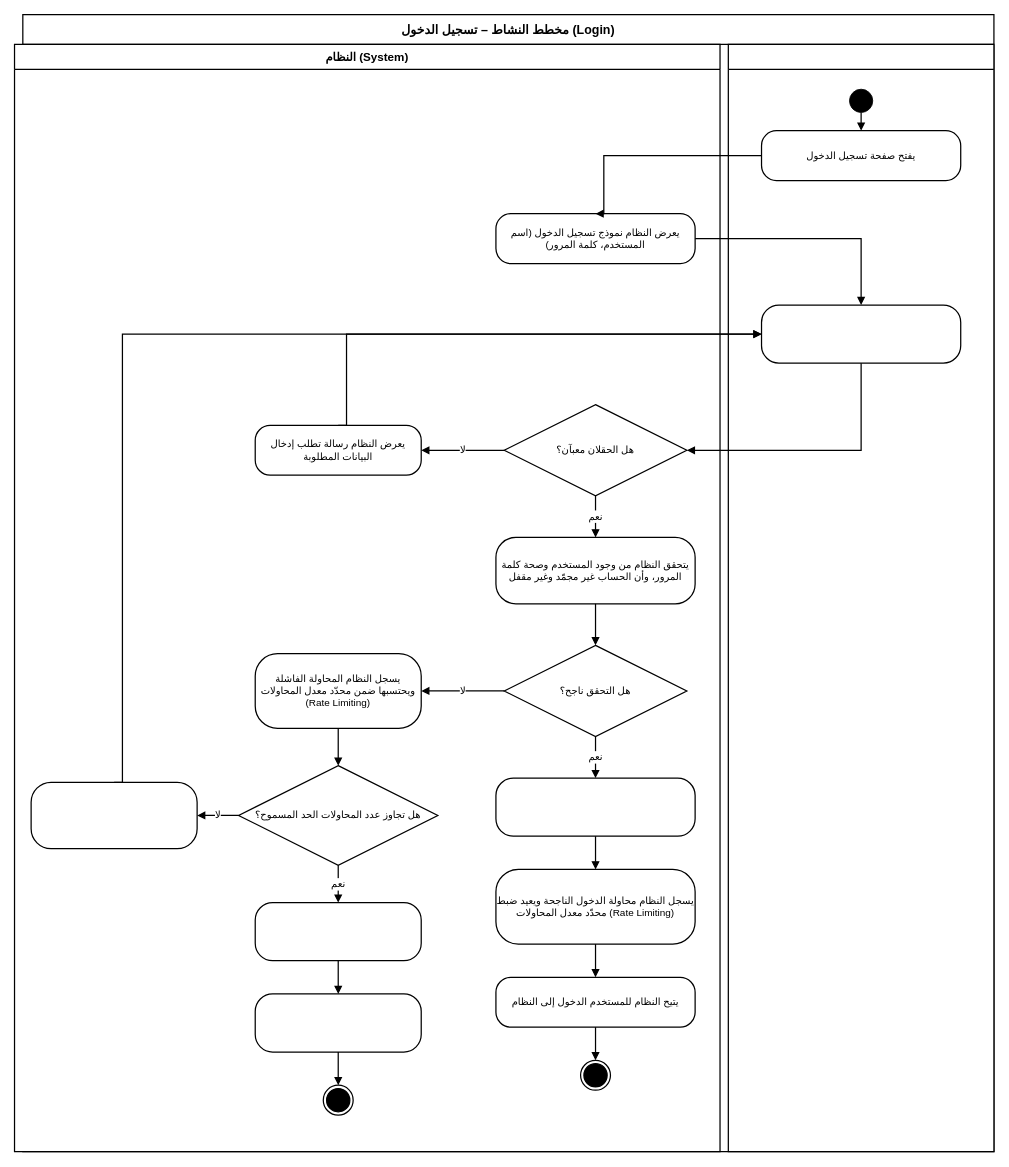
Image size: 1009x1167. Some labels were removed from this diagram. The box of each missing label's shape, as (x1, y1, x2, y2) in pixels:
المستخدم (User): (727, 43, 994, 1152)
يدخل اسم المستخدم وكلمة المرور ويضغط «دخول»: (761, 304, 961, 363)
يصدر النظام توكن مرتبطاً بأدوار المستخدم وصلاحياته: (495, 777, 695, 836)
يعرض النظام الرسالة الموحدة: «اسم المستخدم أو كلمة المرور غير صحيحة»: (30, 781, 197, 849)
يعرض النظام رسالة عامة تفيد بتعذر تسجيل الدخول حالياً: (254, 993, 421, 1052)
يقفل النظام تسجيل الدخول لهذا الحساب مؤقتاً ويسجل الحدث: (254, 902, 421, 961)
